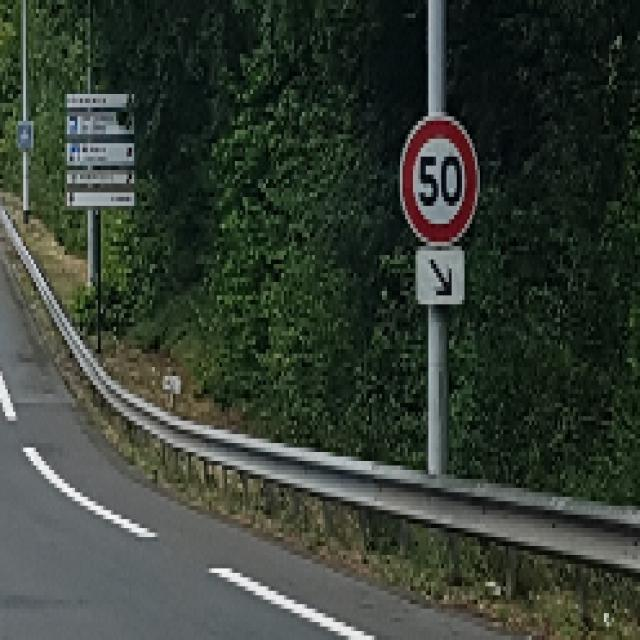speed_50: (399, 111, 481, 249)
